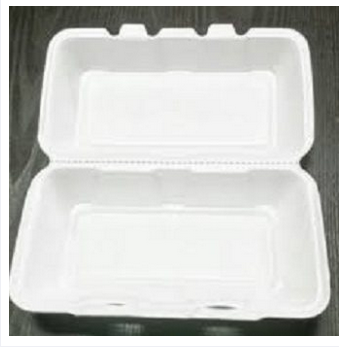Foam Box: (9, 20, 335, 324)
